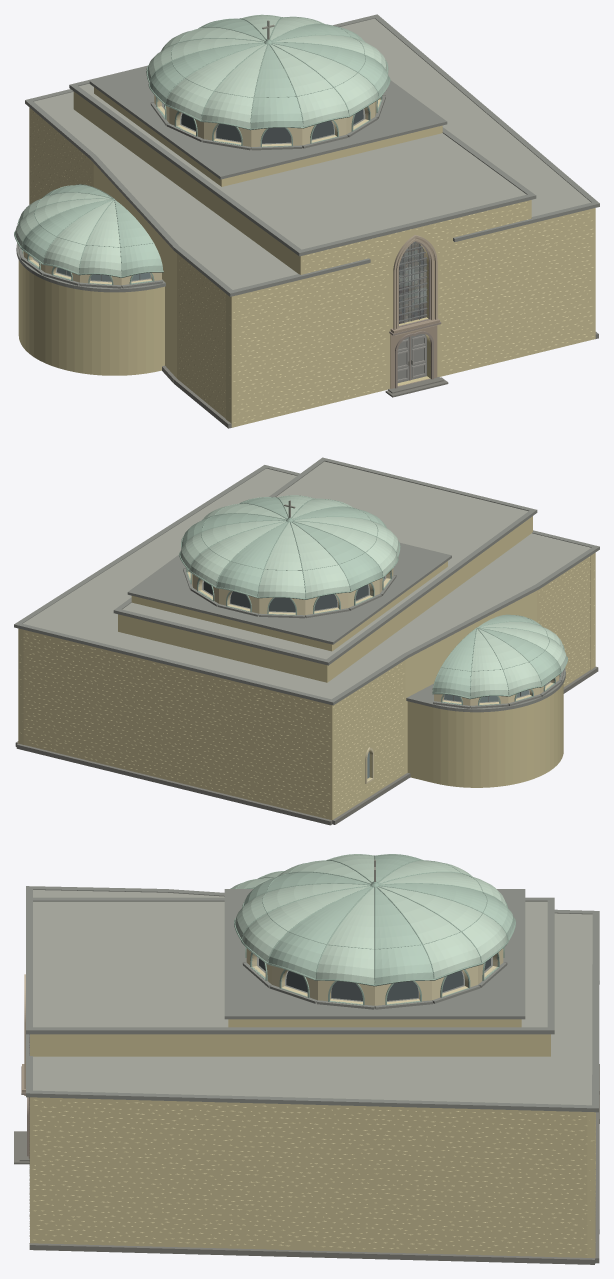
File: changning-xiyan-church-web.glb
The picture shows the model from 3 angles, top to bottom: view 1: azimuth 30°, elevation 25°; view 2: azimuth 150°, elevation 25°; view 3: azimuth 270°, elevation 25°; orthographic projection. The views are drawn at different scales.
Parts seen in each view (by area): view 1: 息焉堂（前庭、主堂铜顶及临河半圆体）; view 2: 息焉堂（前庭、主堂铜顶及临河半圆体）; view 3: 息焉堂（前庭、主堂铜顶及临河半圆体）.
Boxes of the visible parts, x1,y1,x2,y2 form: 息焉堂（前庭、主堂铜顶及临河半圆体）: (14,14,599,428); 息焉堂（前庭、主堂铜顶及临河半圆体）: (14,457,599,825); 息焉堂（前庭、主堂铜顶及临河半圆体）: (14,854,599,1264).
Size of the model in its own units: 21.4 by 10.95 by 19.95.
